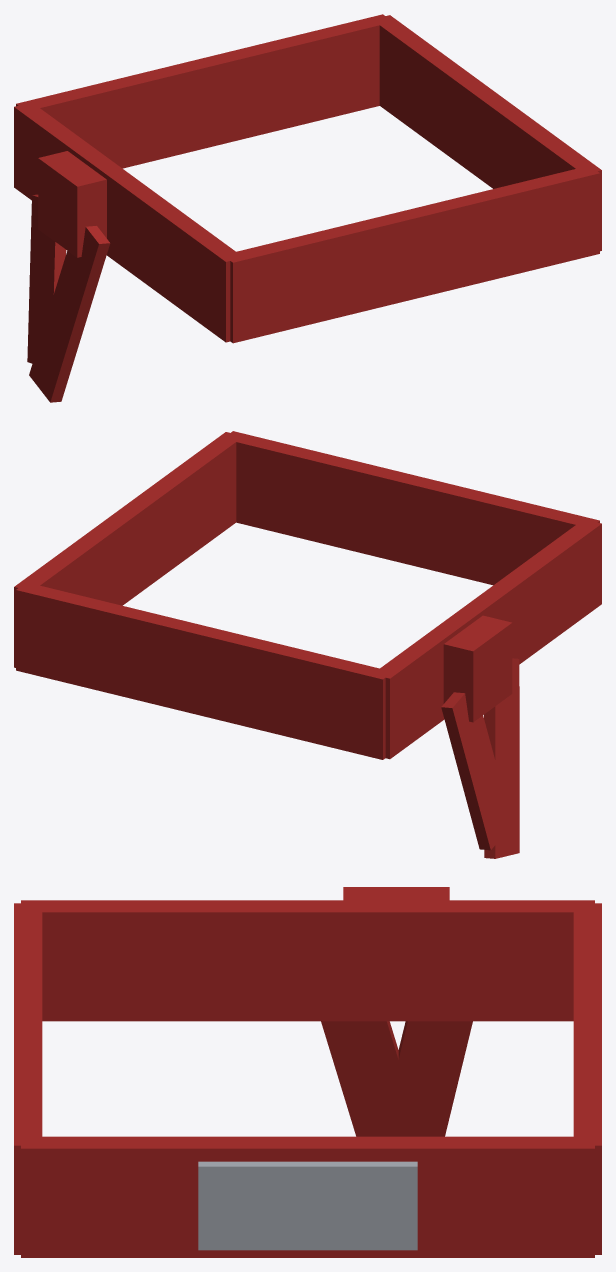
File: hat_bandana.glb
The picture shows the model from 3 angles, top to bottom: view 1: azimuth 30°, elevation 25°; view 2: azimuth 150°, elevation 25°; view 3: azimuth 270°, elevation 25°; orthographic projection. The views are drawn at different scales.
Parts seen in each view (by area): view 1: Hat; view 2: Hat; view 3: Hat.
Part boxes in pixels (x1=…): Hat: x1=14, y1=14, x2=601, y2=402; Hat: x1=14, y1=431, x2=601, y2=858; Hat: x1=14, y1=887, x2=601, y2=1257.
Size of the model in its own units: 0.5703 by 0.2853 by 0.498.
